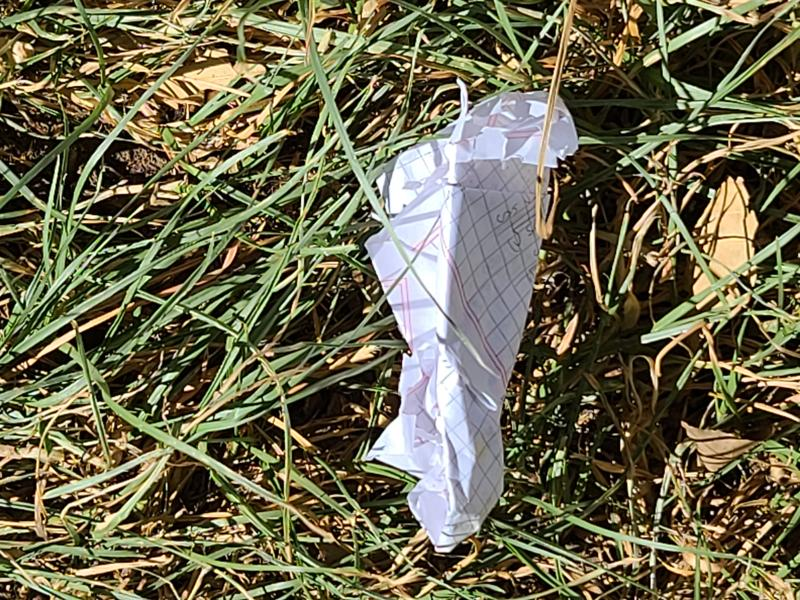papel: (365, 90, 578, 559)
